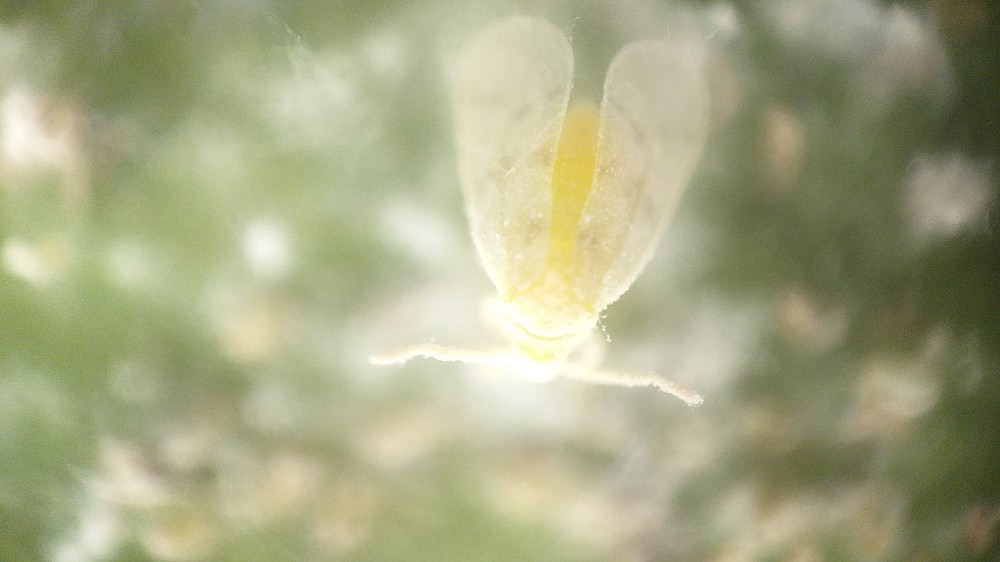Mosca Blanca: (364, 18, 724, 441)
